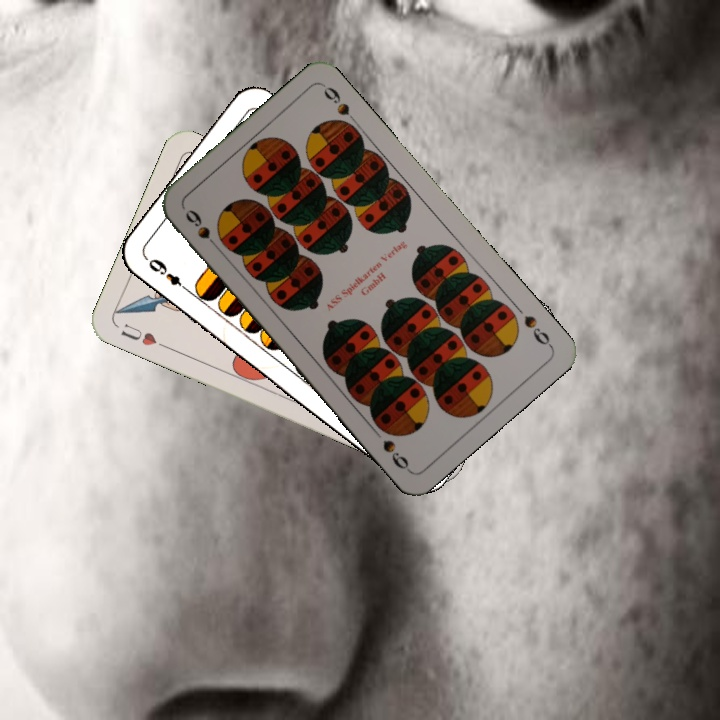E9: (142, 254, 193, 295)
HU: (116, 319, 170, 351)
S9: (181, 205, 223, 254), (519, 311, 555, 350)
